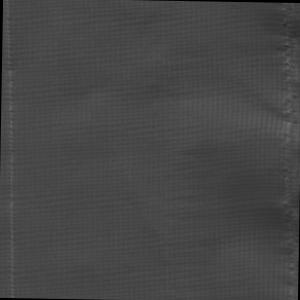Wrinkle: (106, 1, 281, 250)
